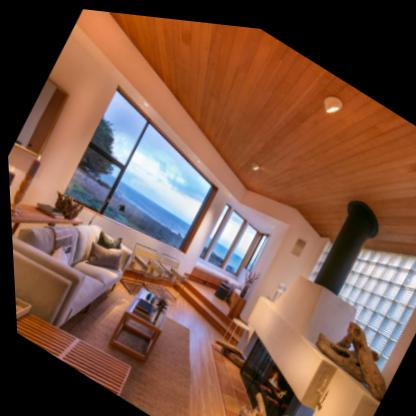Window: (61, 81, 213, 247), (207, 204, 243, 265), (221, 218, 255, 274)
